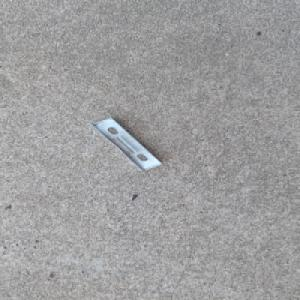ClampPart: (90, 115, 166, 173)
